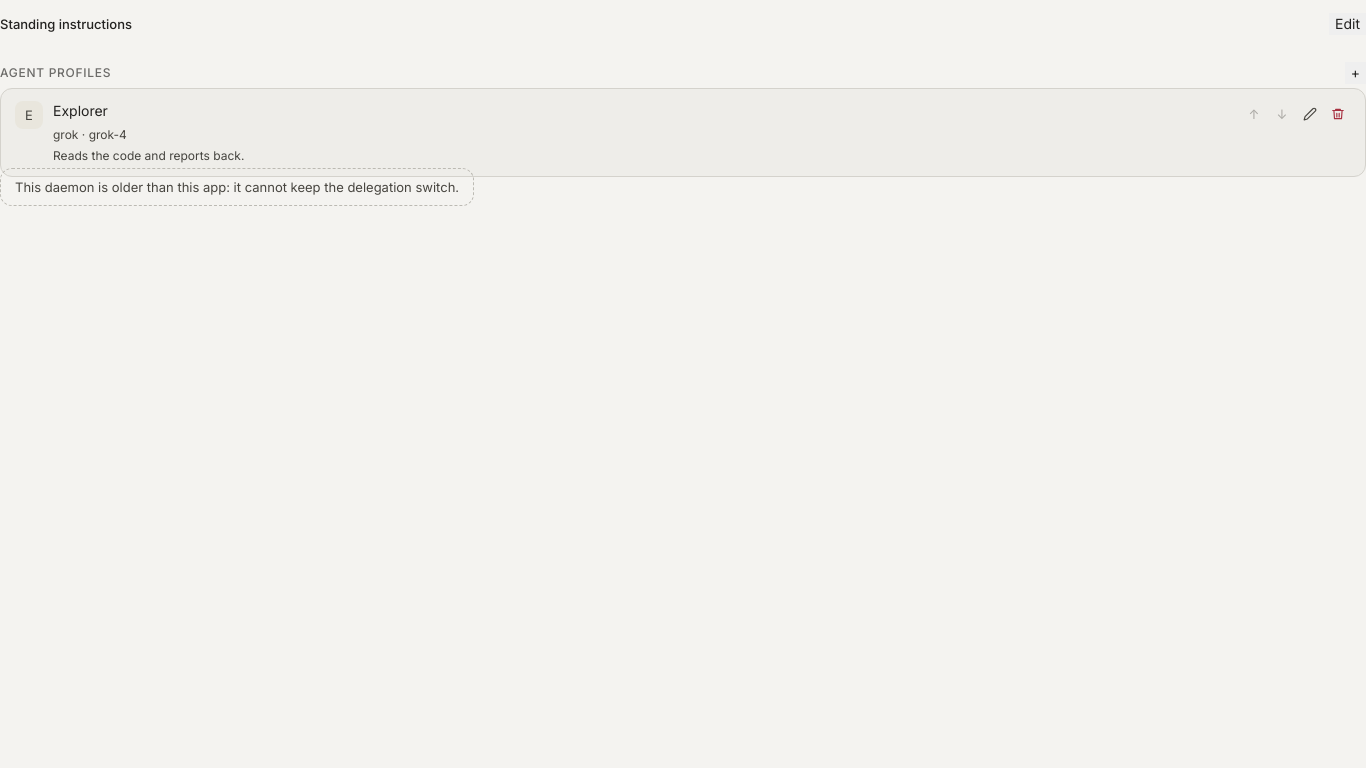
Settings agents panel — the profile dialog › opens one dialog for creating and one for editing, with the full spawn text
Click the button "+". click: (1355, 73)
box: [1345,62,1365,84]
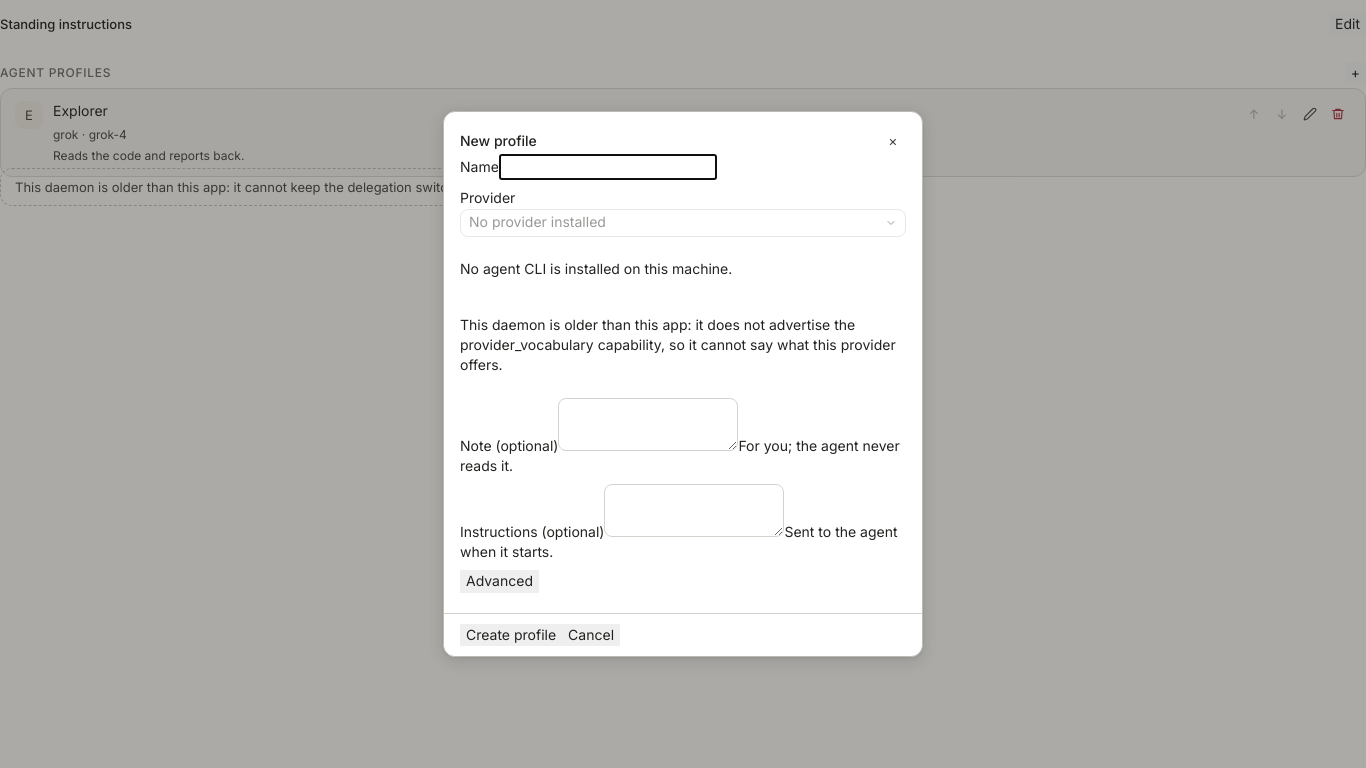
Expected: the element with class "edit-scrim" is shown
Expected: the heading with class "edit-title" reads "New profile", [460,132,537,149]
Click the button "Cancel". click: (591, 635)
box: [562,624,620,646]
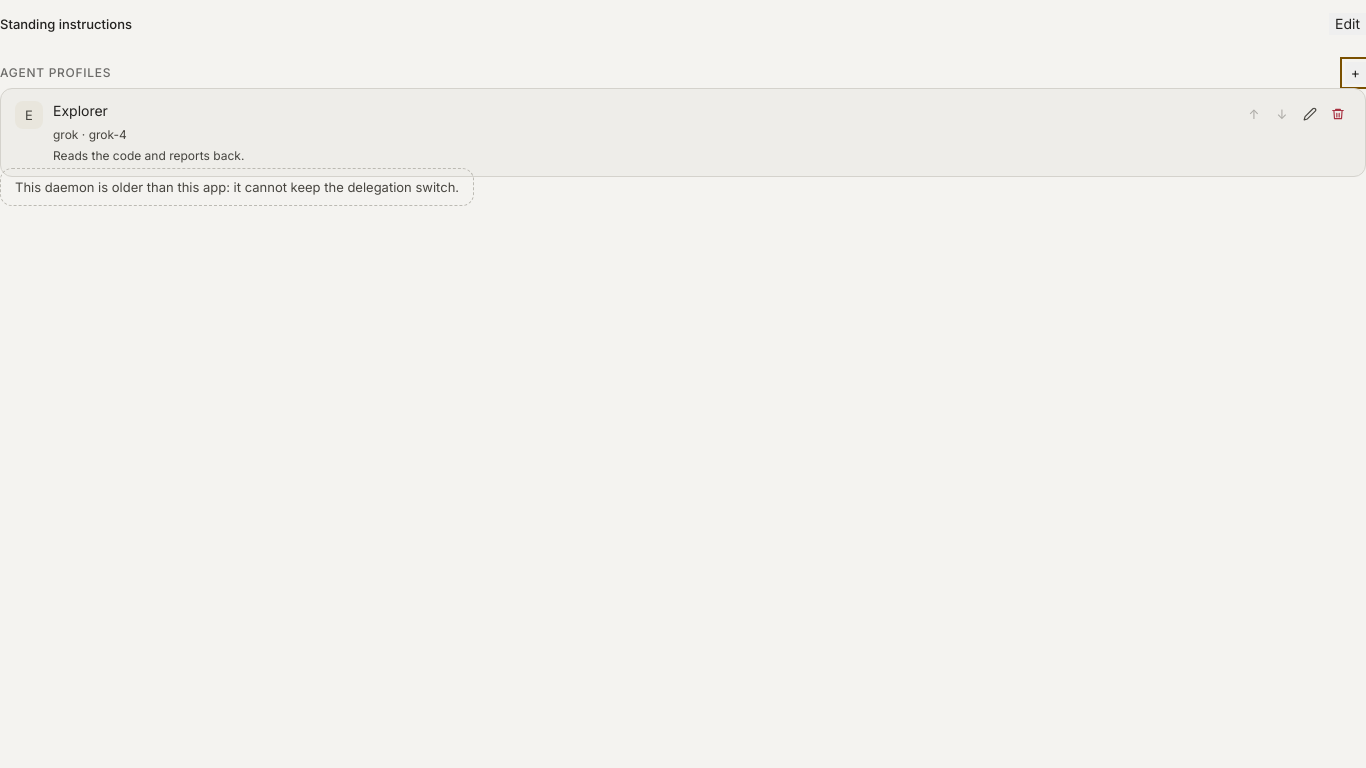
Expected: the element with class "edit-scrim" is gone
Click the button named "Edit Explorer". click: (1310, 114)
box: [1297,101,1323,127]
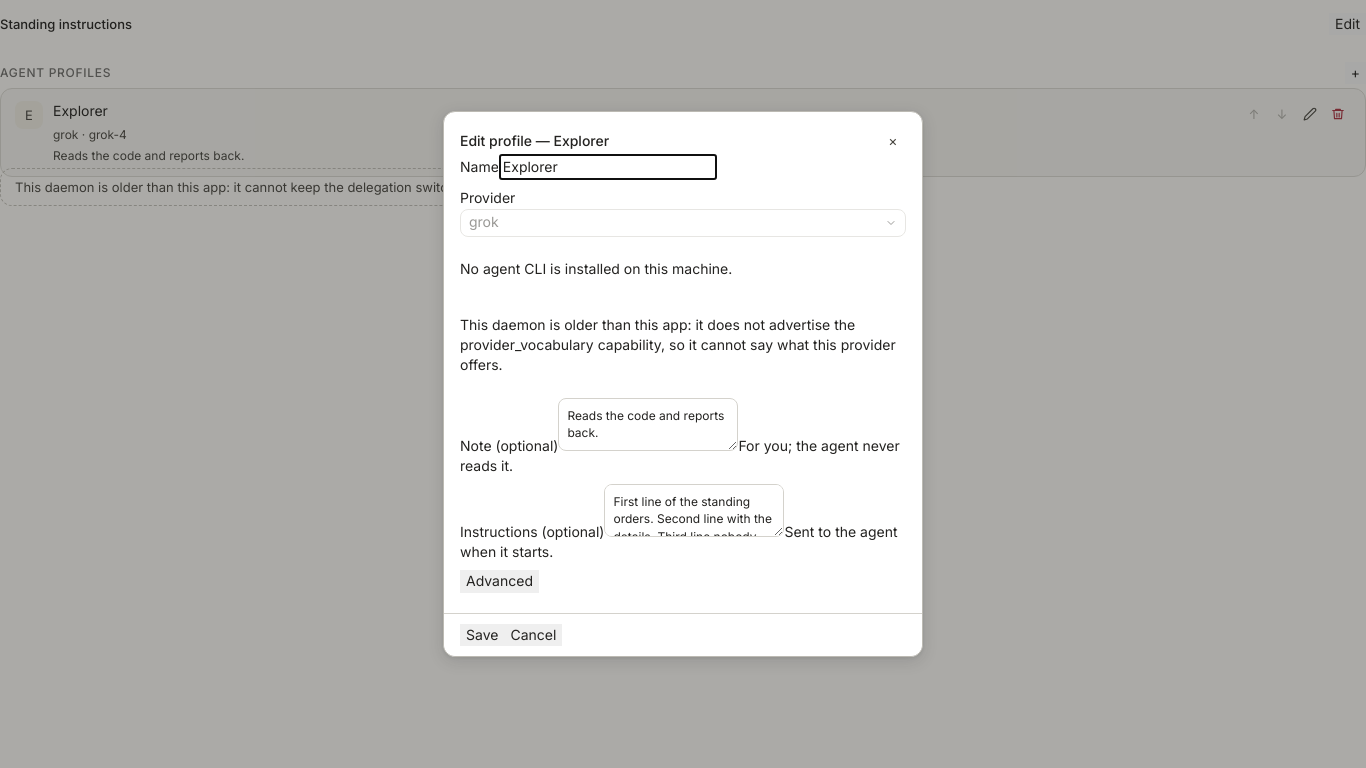
Expected: the heading with class "edit-title" reads "Edit profile — Explorer", [460,132,609,149]
